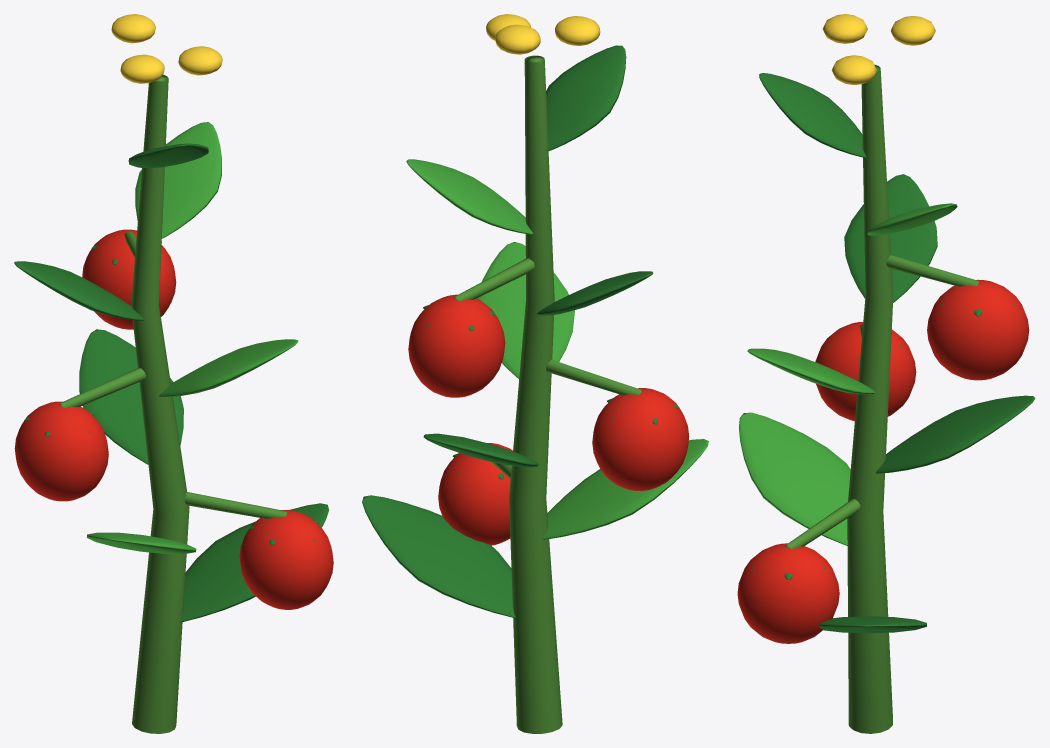
Rendered from mature.obj.
3 renders of one model, left to right at view 1: azimuth 30°, elevation 25°; view 2: azimuth 150°, elevation 25°; view 3: azimuth 270°, elevation 25°, orthographic. The views are drawn at different scales.
Visible parts, largest first — view 1: stem, fruit, leaf_dark, leaf, flower; view 2: stem, fruit, leaf_dark, leaf, flower; view 3: stem, fruit, leaf_dark, leaf, flower.
Part boxes in pixels (<box>): stem: <box>59,75,287,733</box>; fruit: <box>14,229,333,609</box>; leaf_dark: <box>14,143,328,622</box>; leaf: <box>86,122,298,553</box>; flower: <box>111,14,222,83</box>; stem: <box>453,55,642,733</box>; fruit: <box>408,294,689,545</box>; leaf_dark: <box>362,45,679,617</box>; leaf: <box>406,159,708,539</box>; flower: <box>486,14,600,54</box>; stem: <box>784,64,979,733</box>; fruit: <box>737,279,1029,643</box>; leaf_dark: <box>752,73,1035,633</box>; leaf: <box>739,203,957,545</box>; flower: <box>822,14,935,84</box>.
Bounding box in the file's own units: 0.2541 × 0.5482 × 0.2099.
